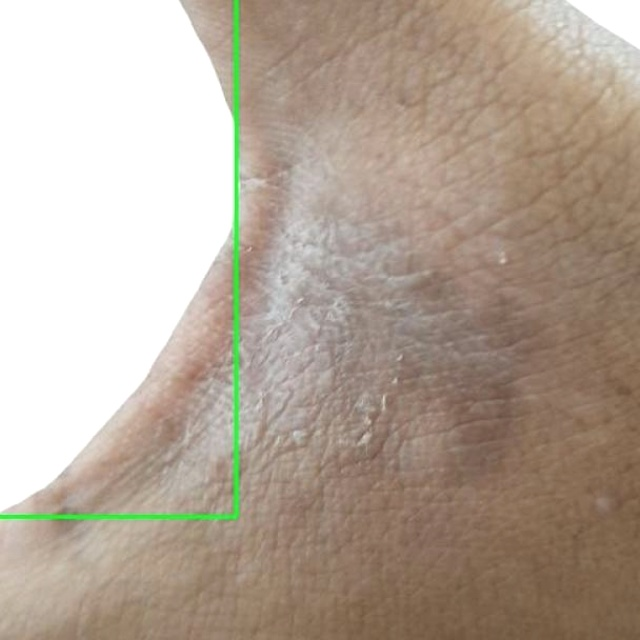Scabies: (0, 0, 236, 516)
